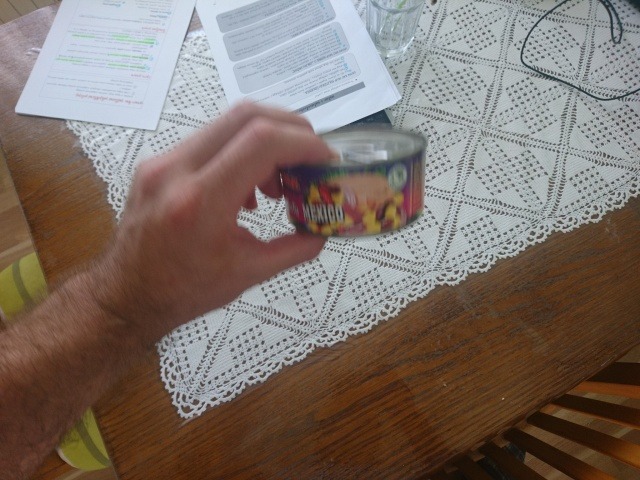Giana Tuna Salad Mexico 185g: (274, 120, 431, 241)
